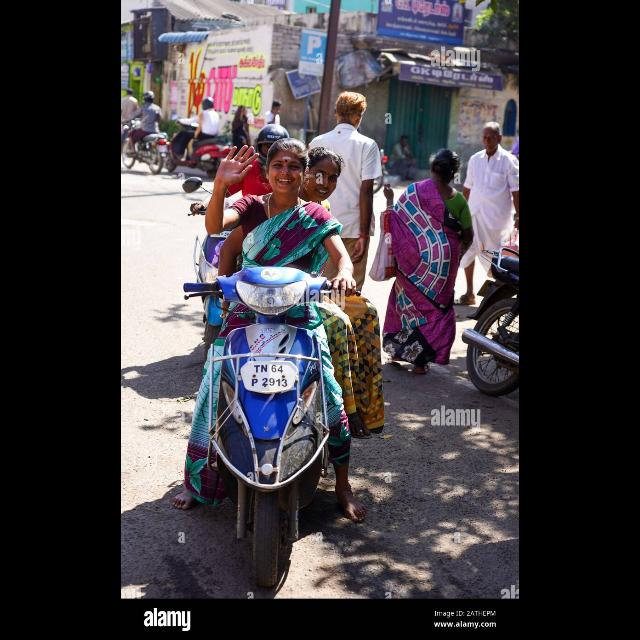without helmet: (265, 139, 309, 195), (309, 150, 343, 200)
